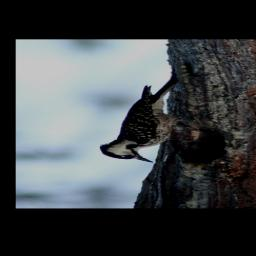Woodpecker: (97, 76, 211, 164)
